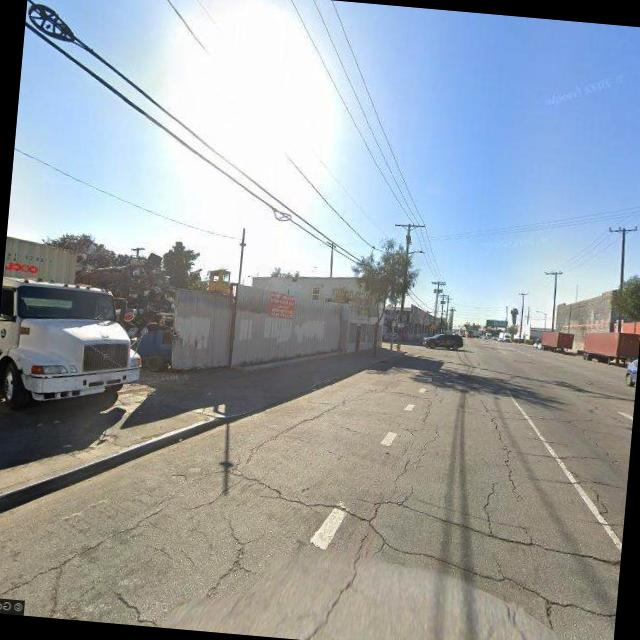crack: (128, 360, 634, 640)
